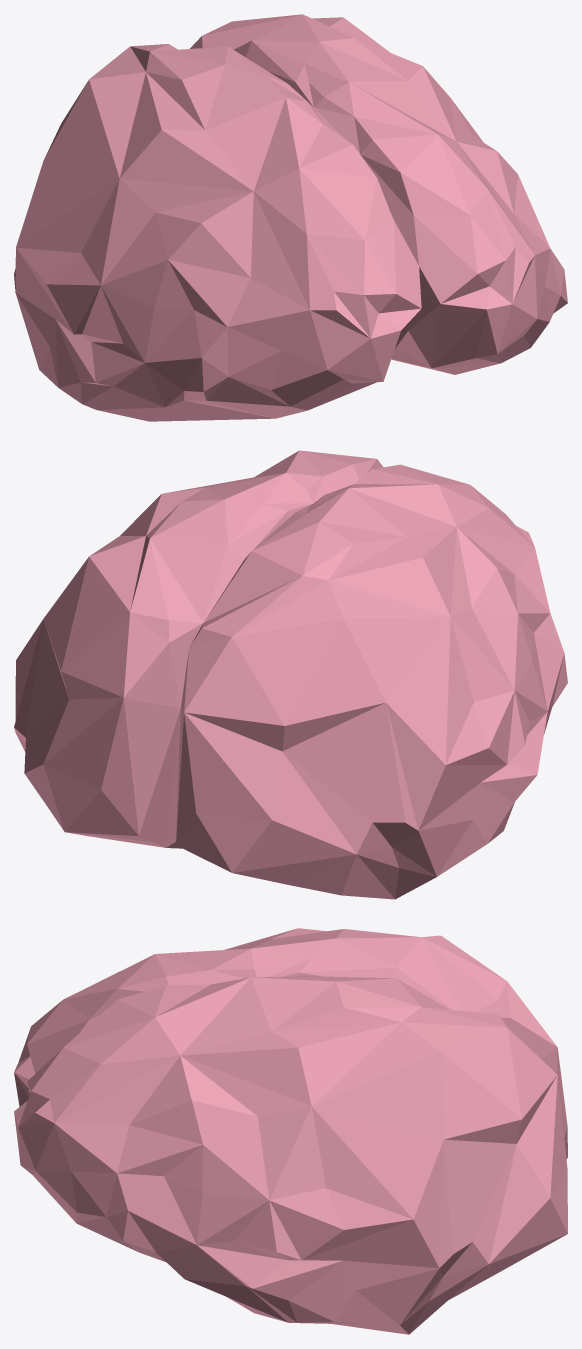
File: brain.FBX
The picture shows the model from 3 angles, top to bottom: view 1: azimuth 30°, elevation 25°; view 2: azimuth 150°, elevation 25°; view 3: azimuth 270°, elevation 25°; orthographic projection. The views are drawn at different scales.
Parts seen in each view (by area): view 1: brain; view 2: brain; view 3: brain.
Part boxes in pixels (x1,y1,x2,y2): brain: (14, 14, 567, 421); brain: (14, 450, 567, 899); brain: (14, 928, 567, 1334).
Bounding box in the file's own units: 0.3917 × 0.2741 × 0.4527.
